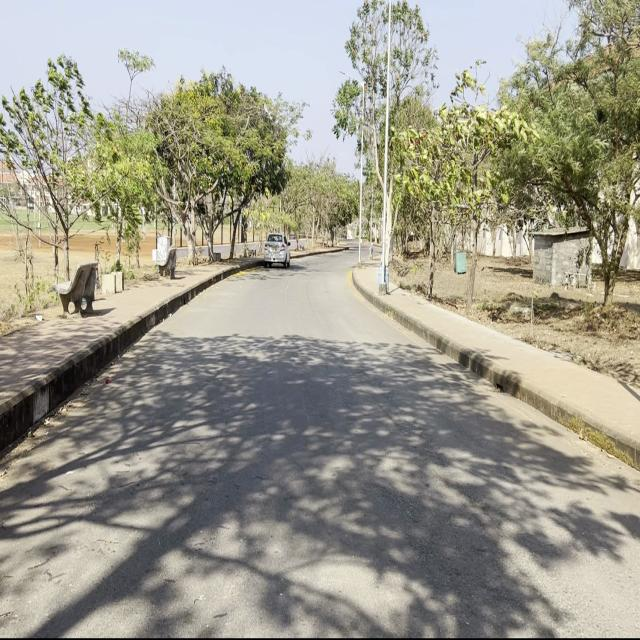Object: (261, 230, 293, 276)
Road: (3, 254, 638, 627)
